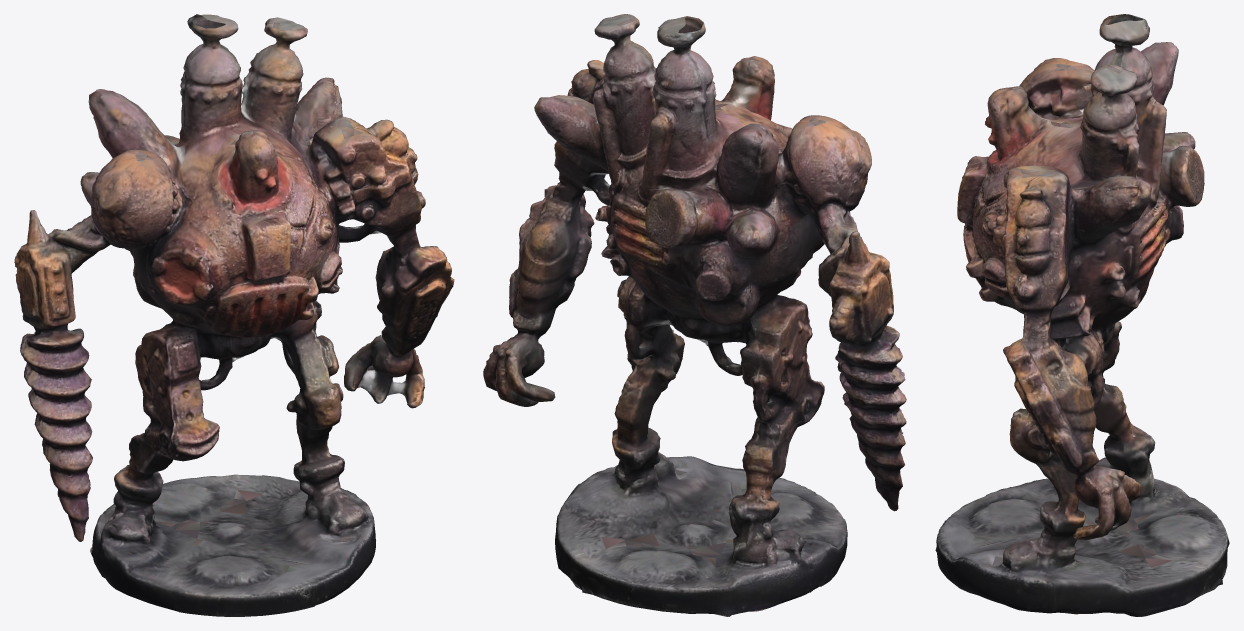
File: Drill.glb
3 views of the same model, side by side, from view 1: azimuth 30°, elevation 25°; view 2: azimuth 150°, elevation 25°; view 3: azimuth 270°, elevation 25° (orthographic). The views are drawn at different scales.
Parts seen in each view (by area): view 1: metal_mosaic; view 2: metal_mosaic; view 3: metal_mosaic.
Part boxes in pixels (x1=…): metal_mosaic: x1=14, y1=14, x2=454, y2=616; metal_mosaic: x1=483, y1=14, x2=906, y2=616; metal_mosaic: x1=935, y1=14, x2=1229, y2=616.
Size of the model in its own units: 10.16 by 12.77 by 6.33.
1 material, 1 textured.
